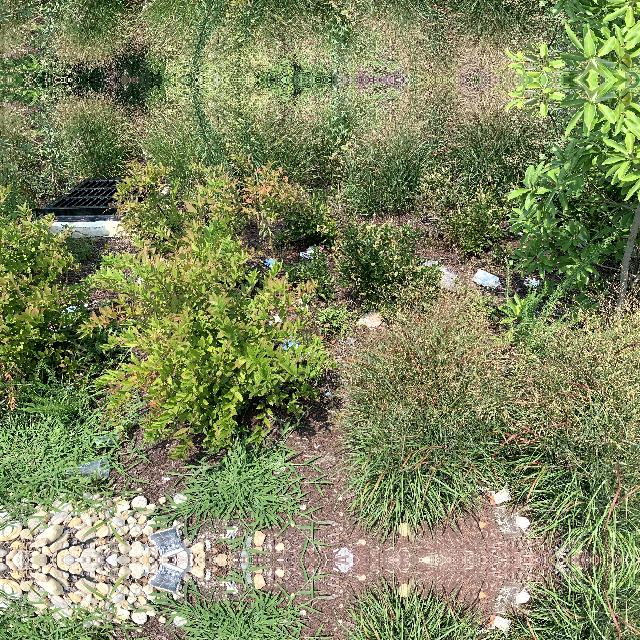Coffee Cup: (65, 457, 112, 481)
Paper: (146, 528, 182, 560), (146, 560, 182, 592), (472, 266, 500, 290), (357, 310, 383, 330), (299, 241, 325, 261), (491, 484, 514, 506), (491, 614, 514, 636), (262, 256, 280, 270), (339, 336, 356, 344)
Plastic: (492, 506, 520, 540), (492, 580, 520, 614), (436, 271, 459, 291), (420, 258, 450, 270)
